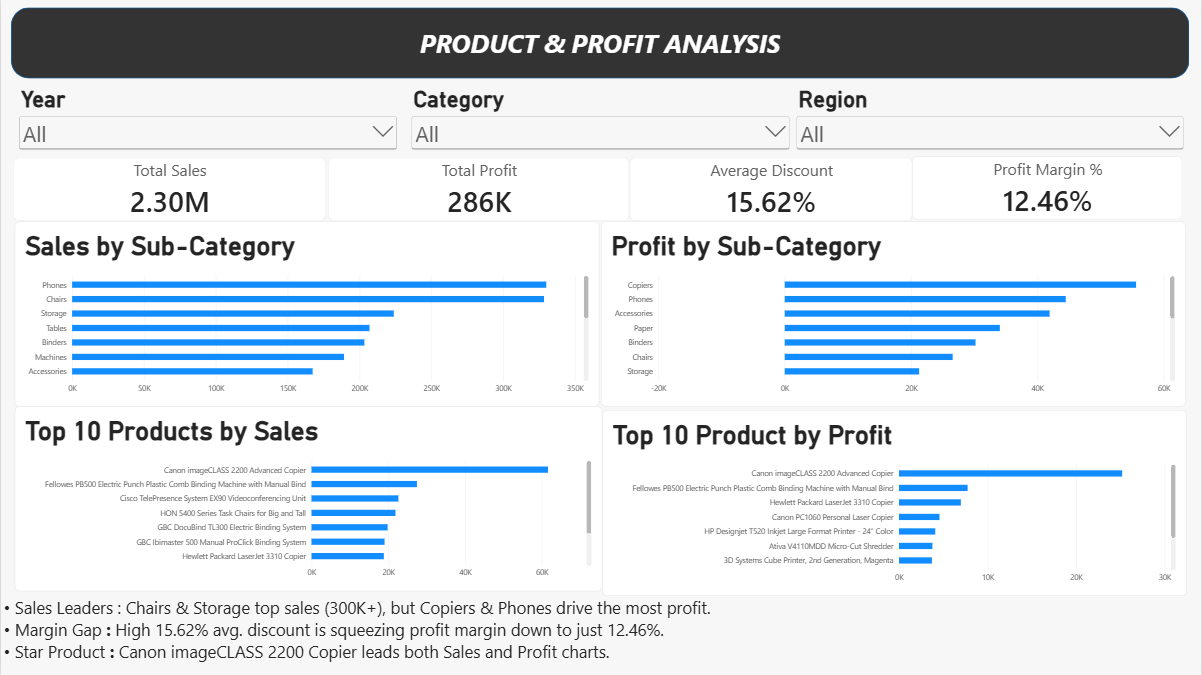

Layout of this report page (visuals, bound fields, positions):
{"tool":"powerbi","page":{"name":"Product Analysis","canvas":[1920,1080],"ordinal":1},"visuals":[{"type":"shape","box":[3.6,0,1909.2,137.5],"z":0},{"type":"slicer","fields":{"Values":["Superstore_Sales_Cleaned.Order Date.Variation.Date Hierarchy.Year"]},"box":[23.8,138.5,614.6,114.7],"z":1000},{"type":"slicer","fields":{"Values":["Superstore_Sales_Cleaned.Category"]},"box":[652.7,138.2,614.6,114.7],"z":2000},{"type":"slicer","fields":{"Values":["Superstore_Sales_Cleaned.Region"]},"box":[1267.3,138.2,629.1,114.5],"z":3000},{"type":"cardVisual","fields":{"Data":["Superstore_Sales_Cleaned.Total Sales"]},"box":[20.8,252.1,499.9,101.7],"z":4000},{"type":"cardVisual","fields":{"Data":["Superstore_Sales_Cleaned.Total Profit"]},"box":[523.6,252.7,481.8,101.8],"z":5000},{"type":"cardVisual","fields":{"Data":["Superstore_Sales_Cleaned.Average Discount"]},"box":[1005.5,252.7,452.7,101.8],"z":6000},{"type":"cardVisual","fields":{"Data":["Superstore_Sales_Cleaned.Profit Margin %"]},"box":[1458.3,250,432.7,101.8],"z":7000},{"type":"clusteredBarChart","title":" Sales by Sub-Category","fields":{"Category":["Superstore_Sales_Cleaned.Sub-Category"],"Y":["Sum(Superstore_Sales_Cleaned.Sales)"]},"box":[21.8,354.5,935.6,296.8],"z":8000},{"type":"clusteredBarChart","title":"Profit by Sub-Category","fields":{"Category":["Superstore_Sales_Cleaned.Sub-Category"],"Y":["Sum(Superstore_Sales_Cleaned.Profit)"]},"box":[960,354.5,935.6,296.8],"z":9000},{"type":"barChart","title":"Top 10 Products by Sales","fields":{"Category":["Superstore_Sales_Cleaned.Product Name"],"Y":["Sum(Superstore_Sales_Cleaned.Sales)"]},"box":[22.9,650,940,296.4],"z":10000},{"type":"clusteredBarChart","title":"Top 10 Product by Profit","fields":{"Category":["Superstore_Sales_Cleaned.Product Name"],"Y":["Sum(Superstore_Sales_Cleaned.Profit)"]},"box":[962.3,655.8,935.1,297.4],"z":11000},{"type":"textbox","box":[4.2,954.2,1893.8,127.1],"z":12000}]}

Visuals, with their boxes in screenshot pixels (x1, y1, x2, y2), scaled from the page's 1920x1080 canvas onto the 1202x675 screenshot:
shape: x1=2, y1=0, x2=1197, y2=86
slicer - Superstore_Sales_Cleaned.Order Date.Variation.Date Hierarchy.Year: x1=15, y1=87, x2=400, y2=158
slicer - Superstore_Sales_Cleaned.Category: x1=409, y1=86, x2=793, y2=158
slicer - Superstore_Sales_Cleaned.Region: x1=793, y1=86, x2=1187, y2=158
cardVisual - Superstore_Sales_Cleaned.Total Sales: x1=13, y1=158, x2=326, y2=221
cardVisual - Superstore_Sales_Cleaned.Total Profit: x1=328, y1=158, x2=629, y2=222
cardVisual - Superstore_Sales_Cleaned.Average Discount: x1=629, y1=158, x2=913, y2=222
cardVisual - Superstore_Sales_Cleaned.Profit Margin %: x1=913, y1=156, x2=1184, y2=220
" Sales by Sub-Category" clusteredBarChart: x1=14, y1=222, x2=599, y2=407
"Profit by Sub-Category" clusteredBarChart: x1=601, y1=222, x2=1187, y2=407
"Top 10 Products by Sales" barChart: x1=14, y1=406, x2=603, y2=592
"Top 10 Product by Profit" clusteredBarChart: x1=602, y1=410, x2=1188, y2=596
textbox: x1=3, y1=596, x2=1188, y2=674
